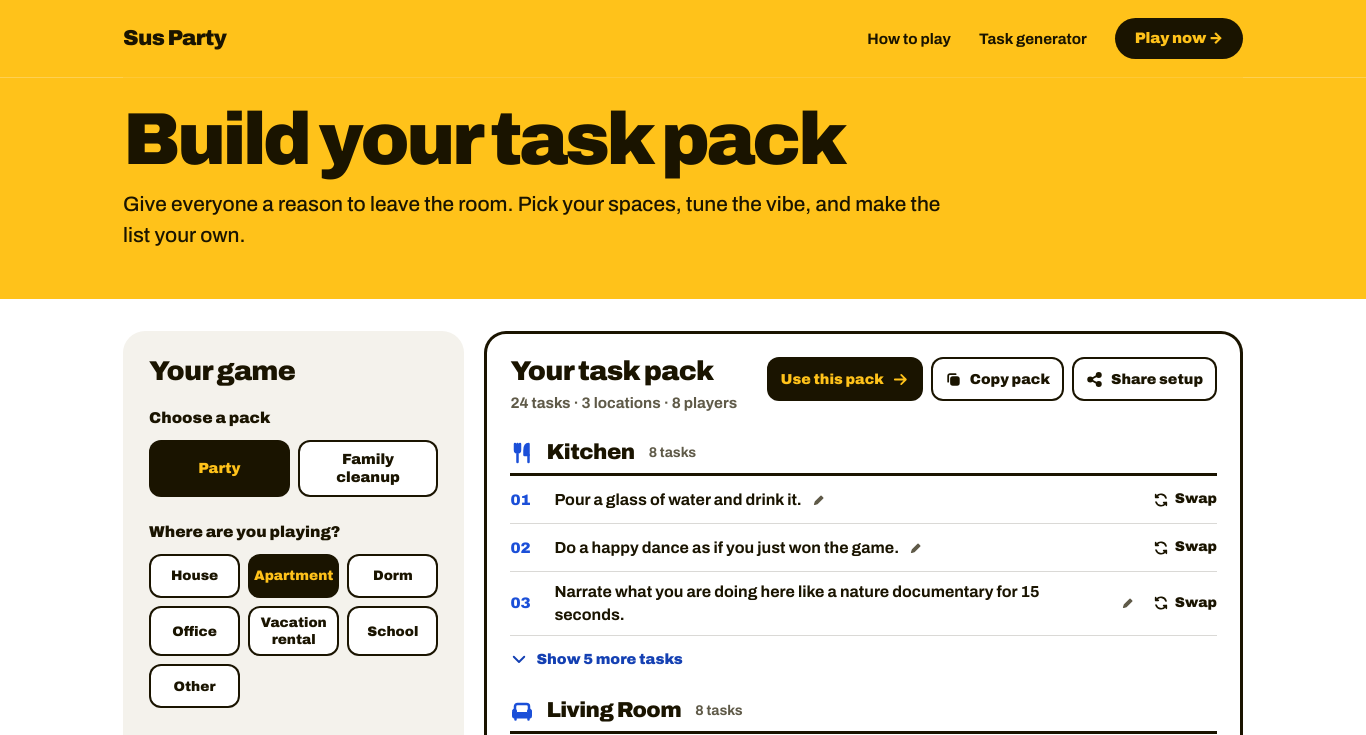
Test: swaps one task without changing the other tasks or the task count
This screenshot has width=1366, height=735.
Click the 1st button "Swap".
click(1181, 500)  # box [1145,482,1217,517]
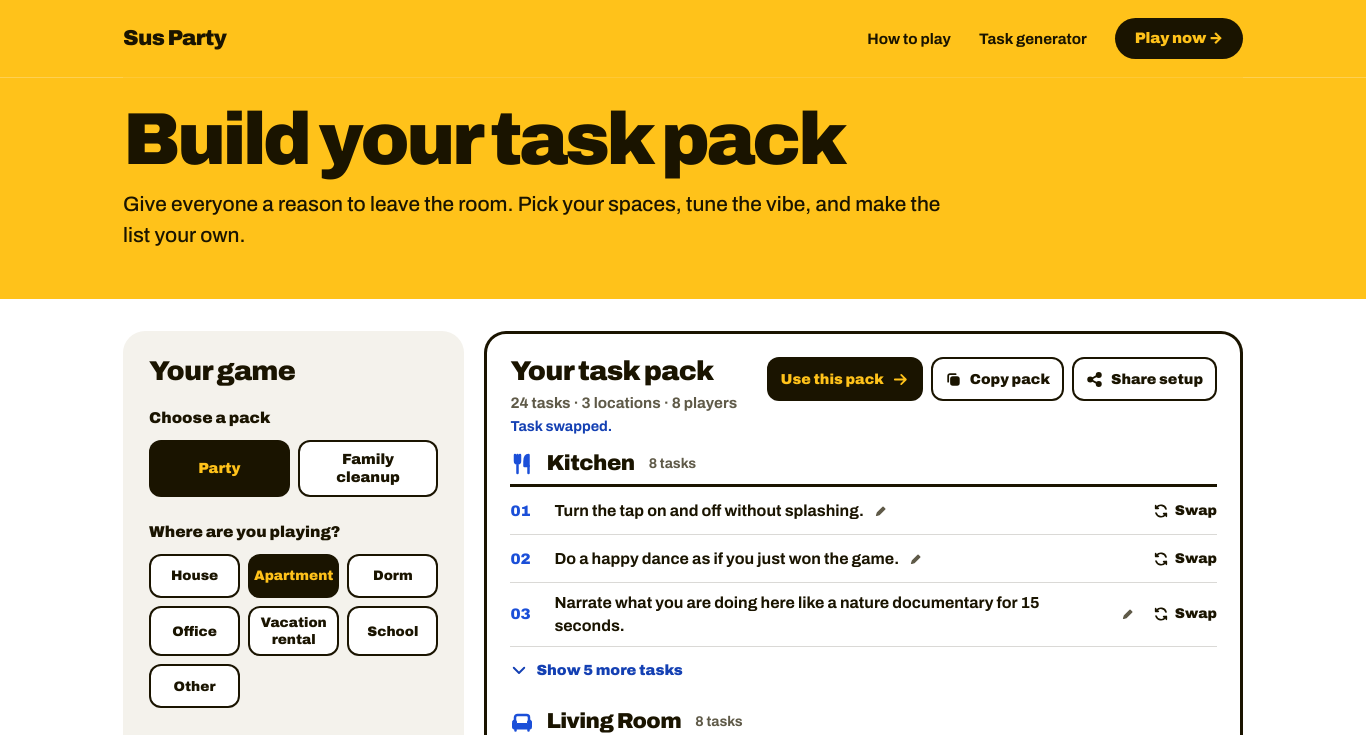
Now the button with test id "task-text" no longer shows "Pour a glass of water and drink it."
